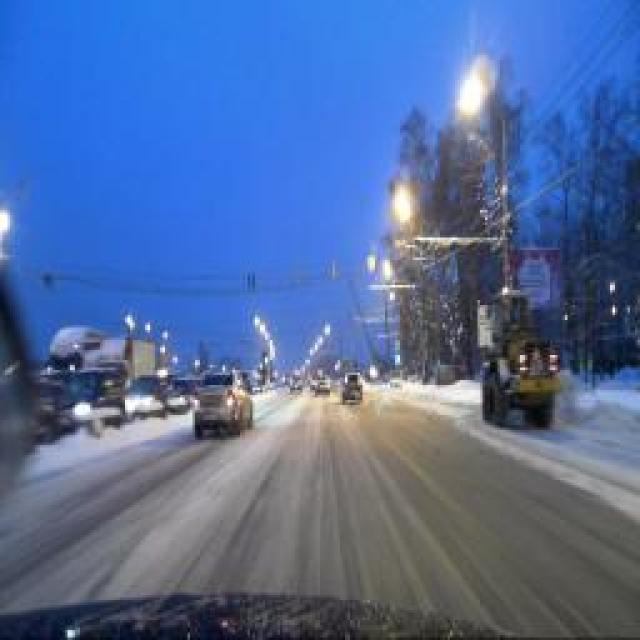sign: (405, 246, 415, 264), (330, 262, 338, 280)
